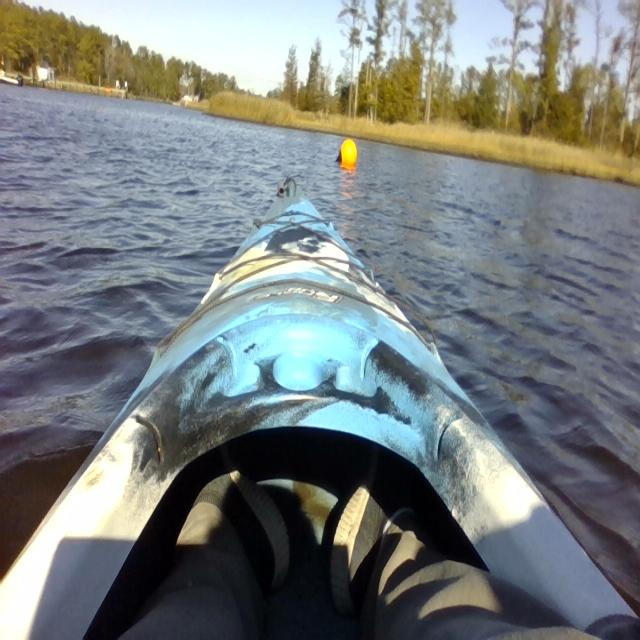Buoy: (335, 134, 360, 176)
